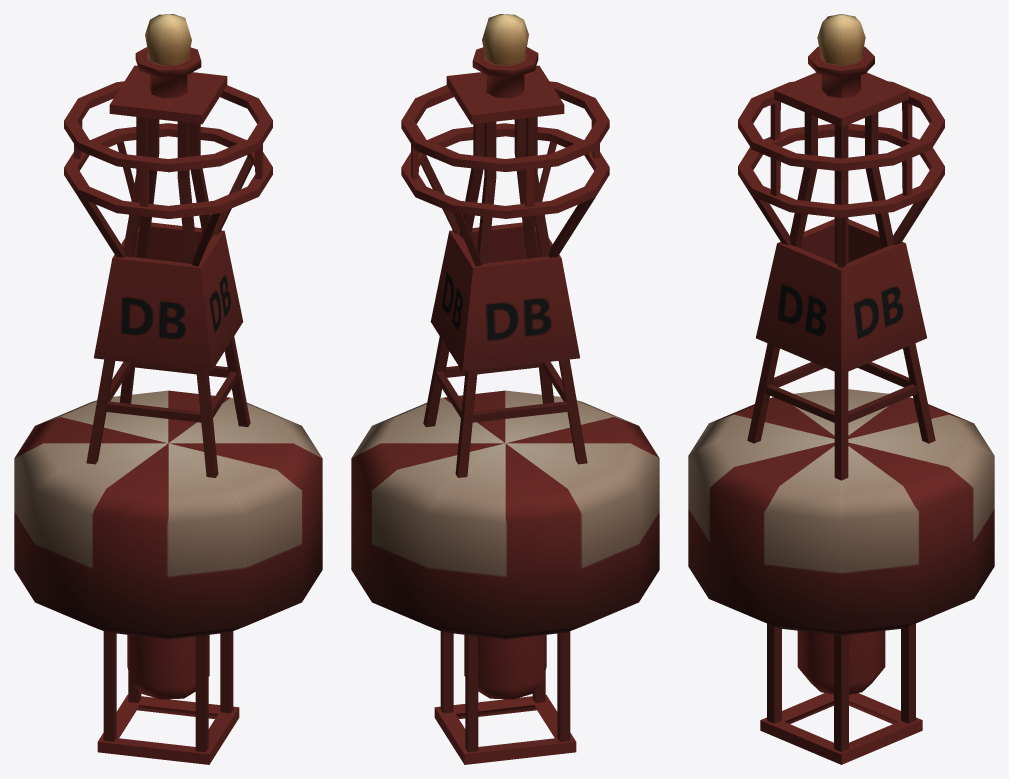
The model's file is DaBuoy_01.fbx.
3 renders of one model, left to right at view 1: azimuth 30°, elevation 25°; view 2: azimuth 150°, elevation 25°; view 3: azimuth 270°, elevation 25°, orthographic.
Visible parts, largest first — view 1: polySurface17; view 2: polySurface17; view 3: polySurface17.
Part boxes in pixels (x1,y1,x2,y2): polySurface17: (14, 14, 322, 764); polySurface17: (351, 14, 659, 764); polySurface17: (688, 14, 994, 764).
Bounding box in the file's own units: 163 × 421 × 163.
